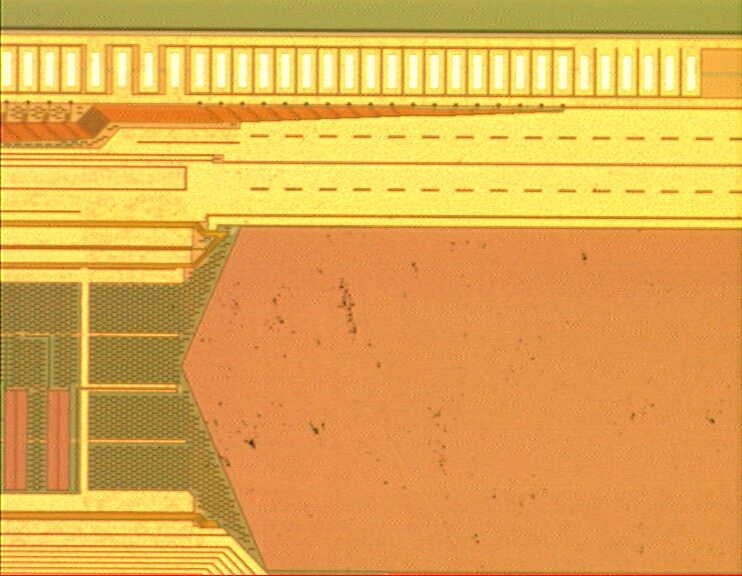PO CONTAMINATION: (196, 228, 650, 576), (458, 223, 736, 457)
